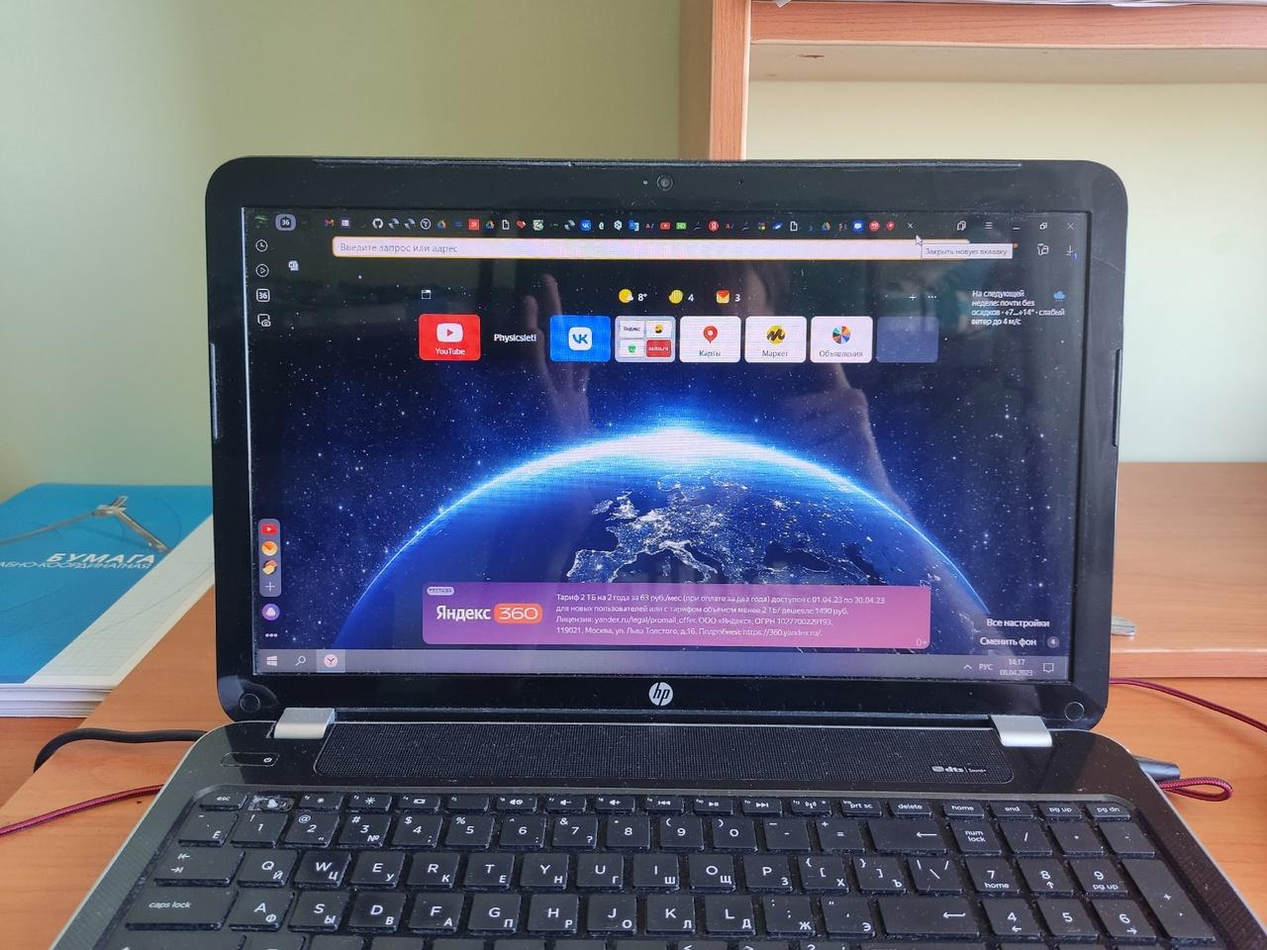monitor: (204, 154, 1130, 763)
